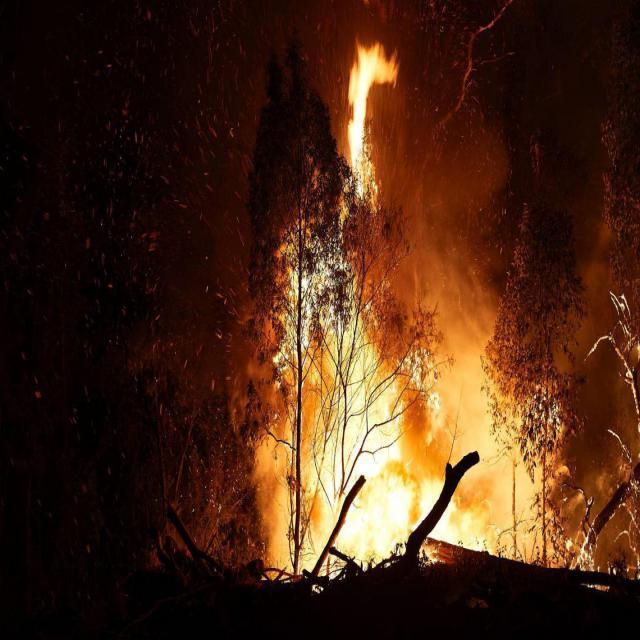Fire: (250, 314, 560, 584), (347, 32, 405, 168)
